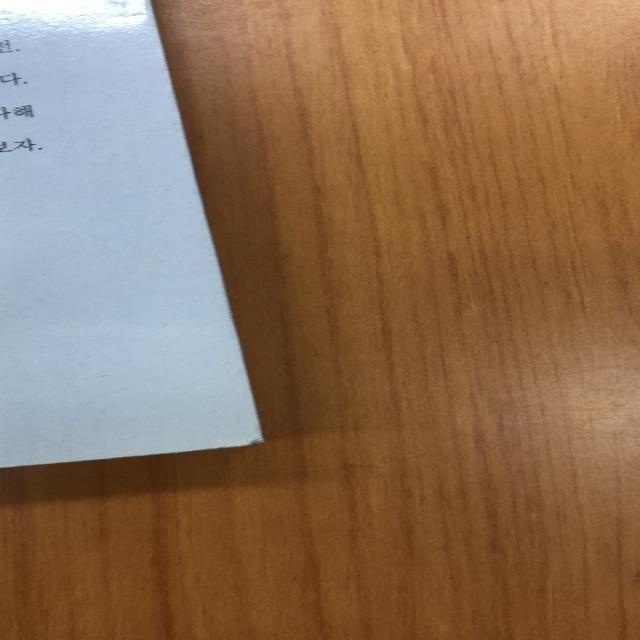Wornout: (205, 427, 275, 453)
